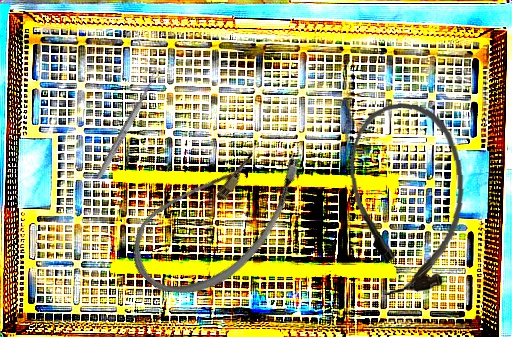Cannula: (115, 111, 320, 322), (344, 99, 472, 297)
Surgical Spoon: (94, 68, 162, 182)
